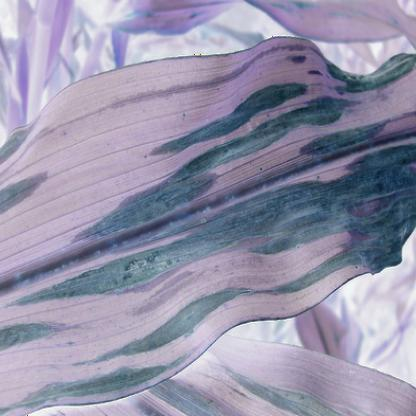corn leaf blight: (8, 52, 415, 352)
